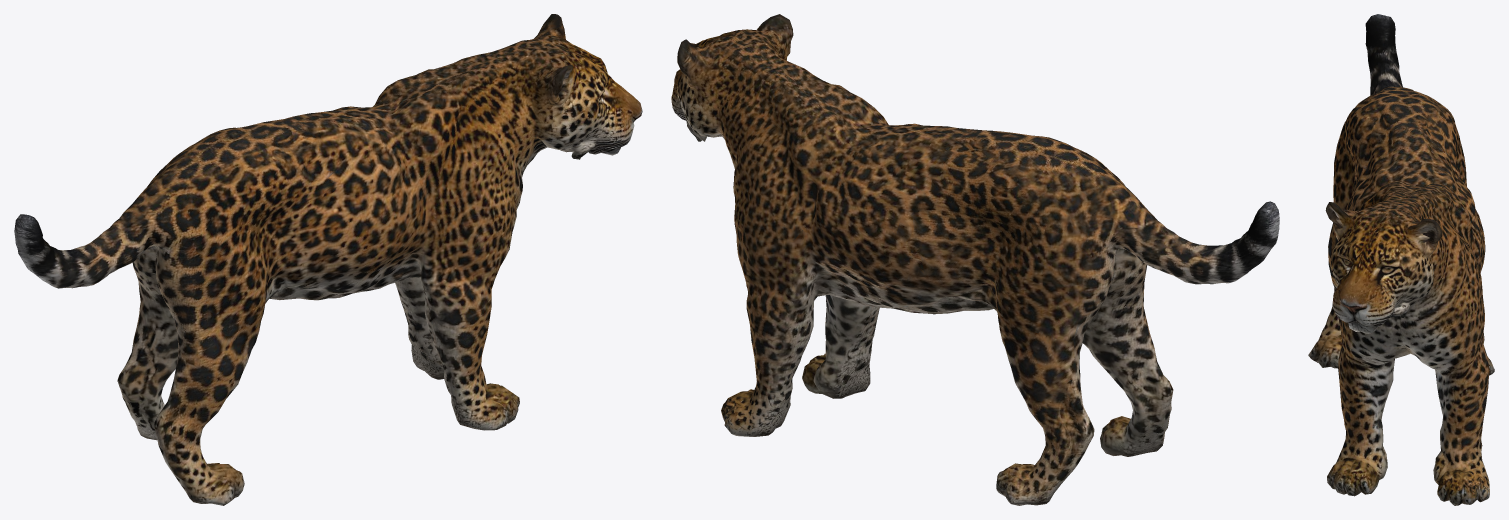
Rendered from ROSETTE.glb.
The picture shows the model from 3 angles, left to right: view 1: azimuth 30°, elevation 25°; view 2: azimuth 150°, elevation 25°; view 3: azimuth 270°, elevation 25°; orthographic projection. The views are drawn at different scales.
Parts seen in each view (by area): view 1: tripo_node_30415043-2f97-4af6-8ab2-bd8a5d9d81c6; view 2: tripo_node_30415043-2f97-4af6-8ab2-bd8a5d9d81c6; view 3: tripo_node_30415043-2f97-4af6-8ab2-bd8a5d9d81c6.
Boxes of the visible parts, x1,y1,x2,y2 form: tripo_node_30415043-2f97-4af6-8ab2-bd8a5d9d81c6: [14, 14, 642, 505]; tripo_node_30415043-2f97-4af6-8ab2-bd8a5d9d81c6: [671, 14, 1279, 505]; tripo_node_30415043-2f97-4af6-8ab2-bd8a5d9d81c6: [1308, 14, 1494, 505].
Bounding box in the file's own units: 1.83 × 0.9999 × 0.5325.
1 material, 1 textured.
